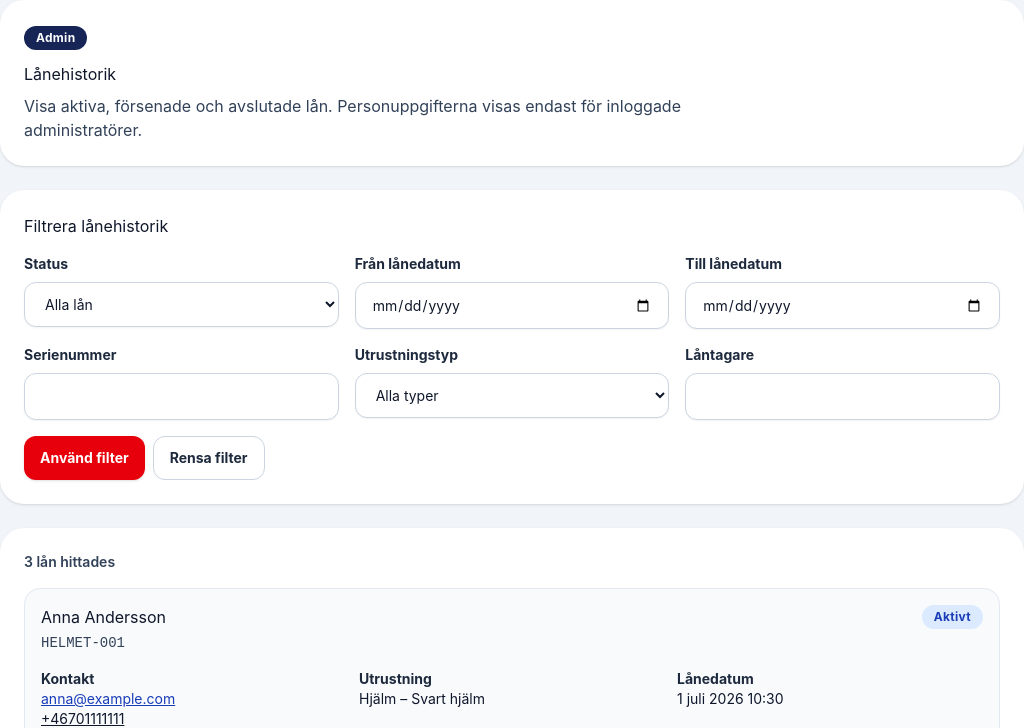
Scenario: ActiveLoansPage › shows date validation error and focuses from date
The width and height of the screenshot is (1024, 728).
Expected: the heading "Anna Andersson" is shown, left=41, top=605, right=166, bottom=629
Type "2026-08-01" into the date field labelled "Från lånedatum" at x=512, y=306, box left=355, top=282, right=669, bottom=329
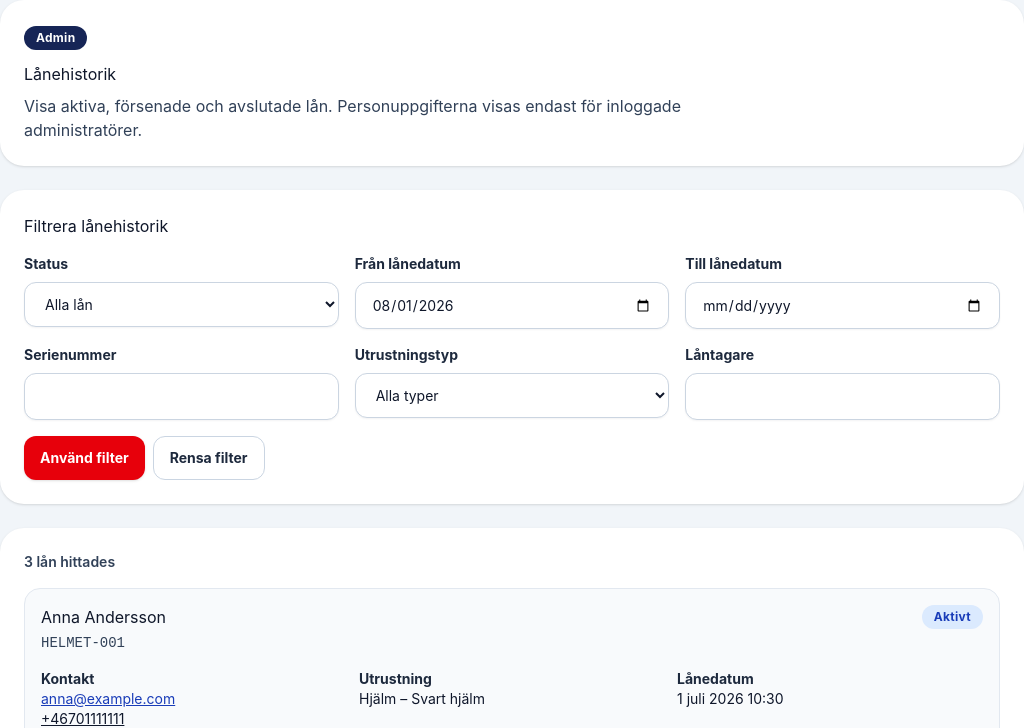
Type "2026-07-01" into the date field labelled "Till lånedatum" at x=843, y=306, box left=685, top=282, right=1000, bottom=329
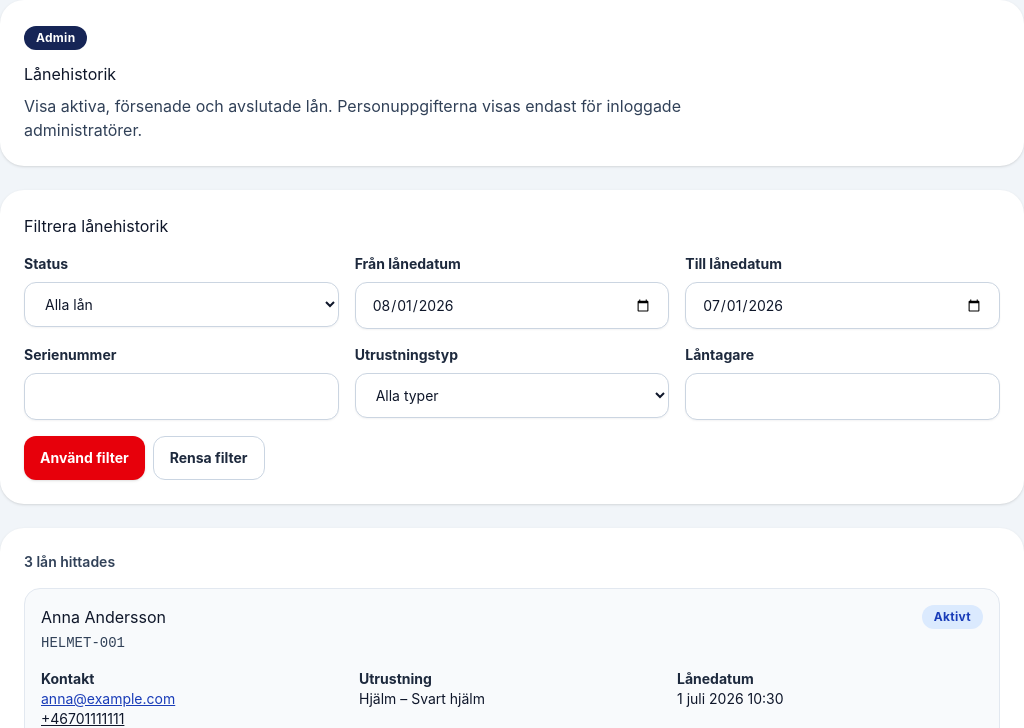
Click the button "Använd filter" at x=84, y=458, box left=24, top=436, right=145, bottom=480
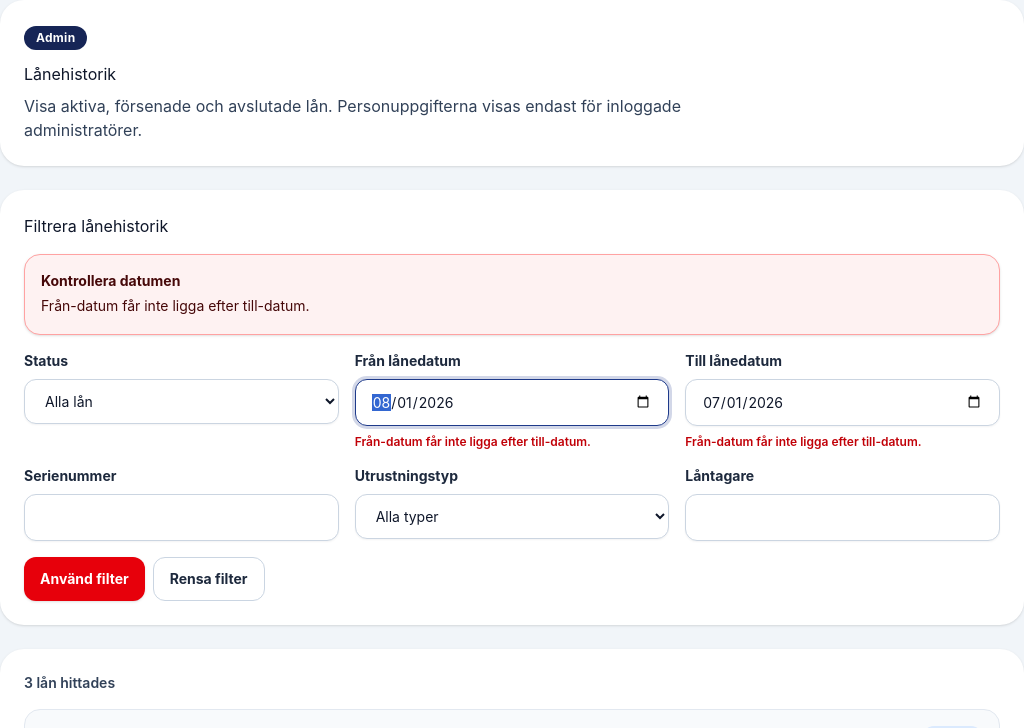
Expected: the message "Kontrollera datumen Från-datum får inte ligga efter till-datum." is shown, left=24, top=254, right=1000, bottom=335
